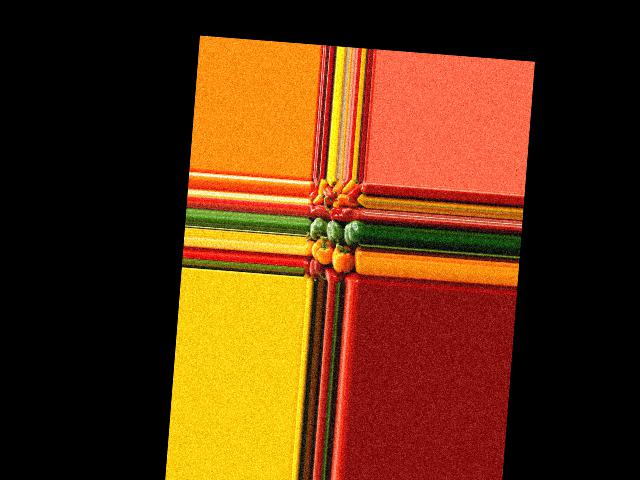bell_pepper: (346, 182, 363, 202)
